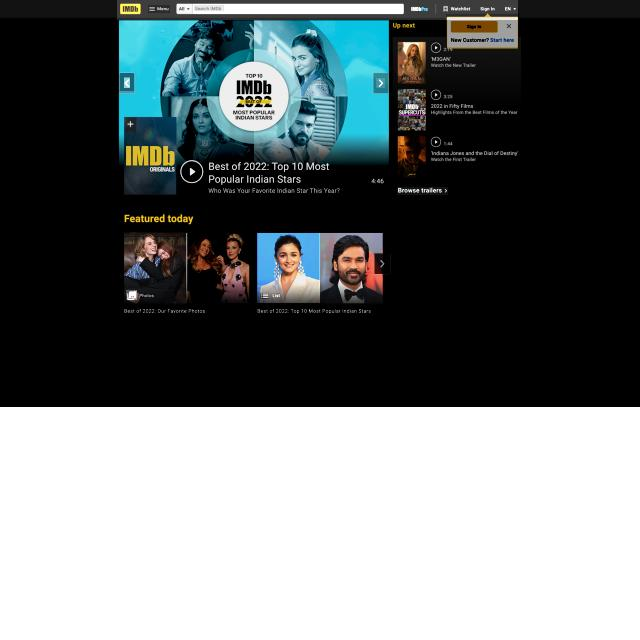CheckBox: (397, 187, 448, 195)
CheckedTextView: (176, 3, 404, 15)
Switch: (122, 232, 392, 315)
alert: (176, 4, 193, 14)
bag: (117, 0, 518, 20)
card: (119, 20, 389, 194)
carousel: (126, 290, 137, 300), (376, 78, 385, 88), (124, 78, 130, 88), (260, 293, 269, 299), (394, 6, 400, 13)
copy: (124, 232, 186, 304), (188, 232, 250, 304), (321, 233, 383, 305), (257, 233, 320, 303)
date picker: (120, 3, 140, 15)
decoration: (373, 72, 389, 94), (374, 253, 390, 274), (120, 74, 134, 94), (148, 5, 170, 13)
footer: (194, 5, 224, 11), (504, 5, 519, 12)
illustration: (140, 294, 154, 298), (272, 293, 280, 298)
label: (446, 14, 519, 48)
